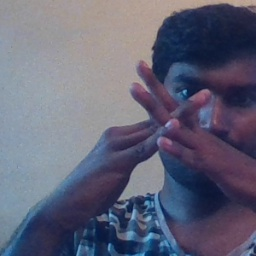W: (95, 46, 230, 177)
